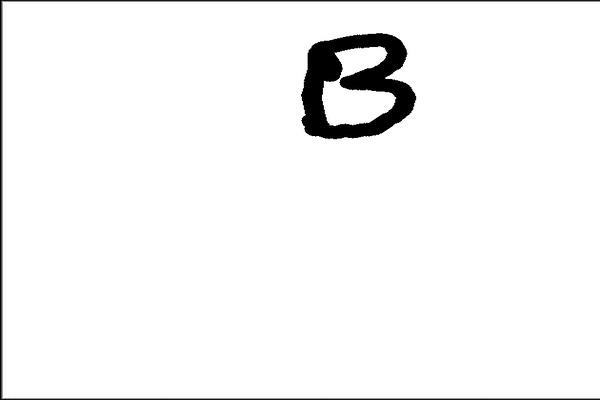B: (292, 24, 425, 148)
